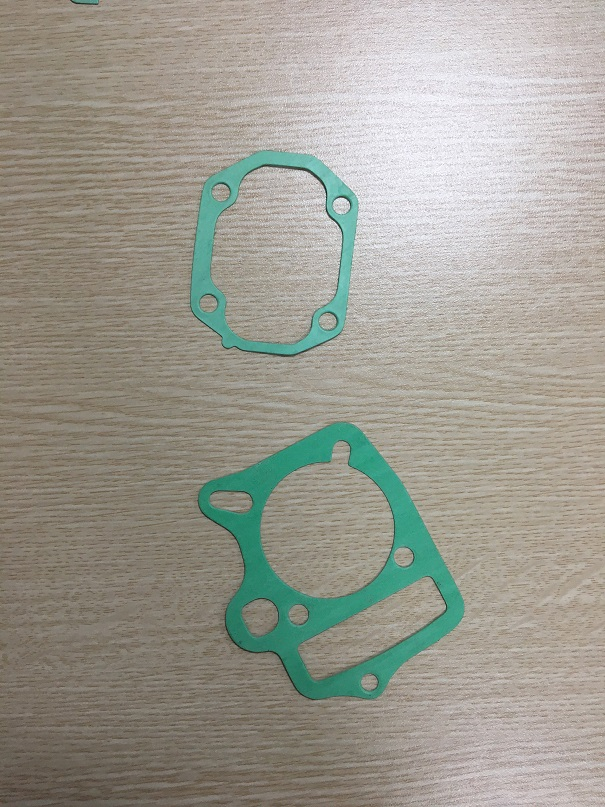type2: (181, 142, 361, 362)
type4: (185, 417, 472, 716)
